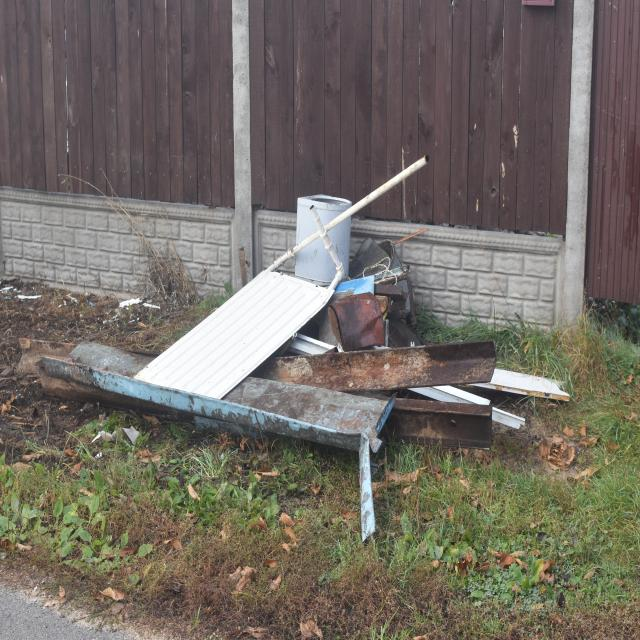entulho: (20, 323, 407, 541), (262, 327, 516, 468), (129, 263, 349, 407), (276, 169, 428, 357)
lixo domiciliar: (1, 279, 44, 309), (120, 425, 140, 445), (92, 430, 116, 444), (118, 298, 140, 309), (142, 302, 161, 310)
